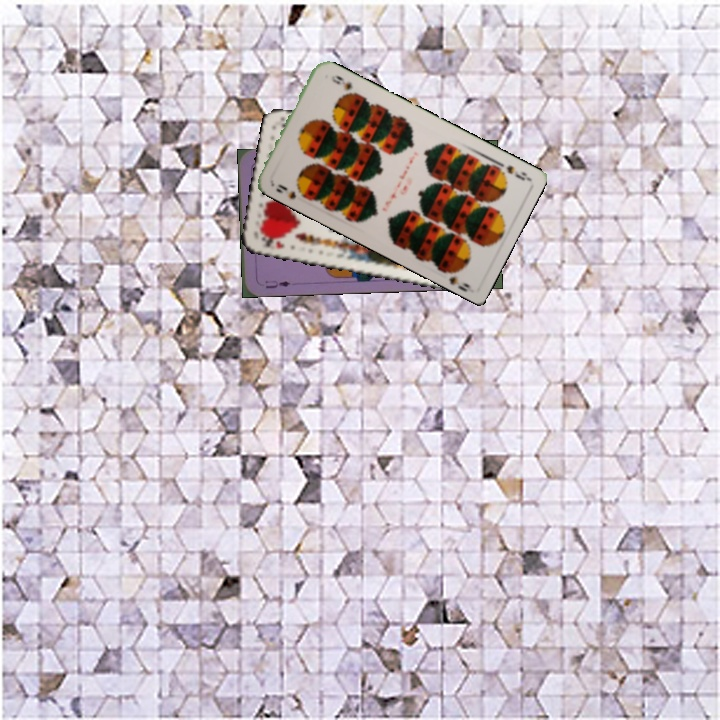EU: (261, 277, 293, 291)
HK: (256, 230, 287, 251)
S9: (492, 158, 530, 183), (274, 180, 308, 202)
